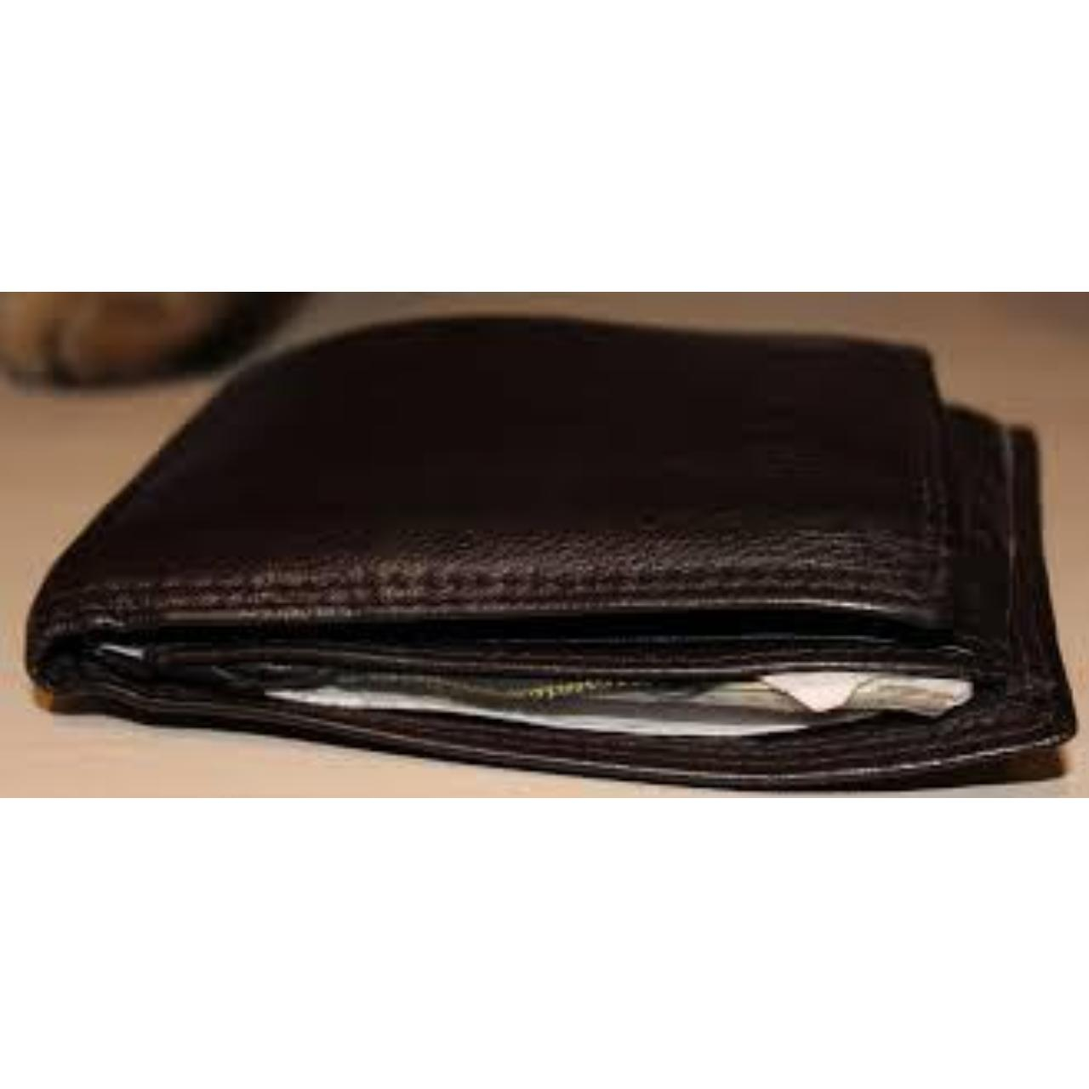wallet: (43, 293, 1089, 779)
